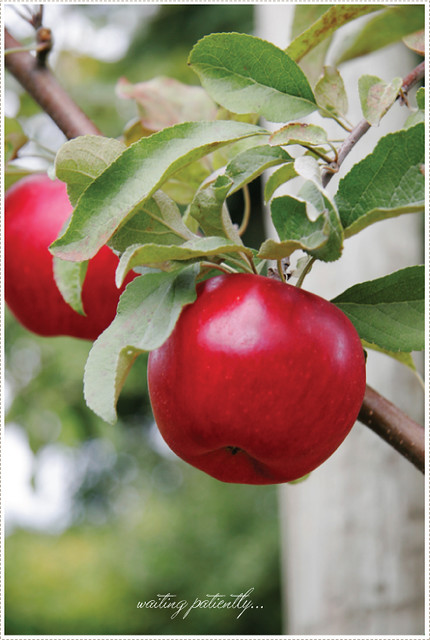apple: (142, 267, 369, 489), (6, 155, 136, 345)
